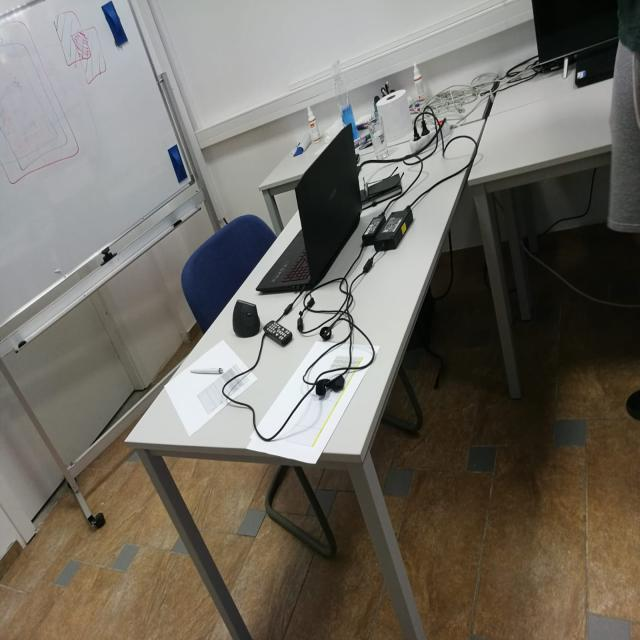Laptops_bbox: (232, 84, 388, 334)
